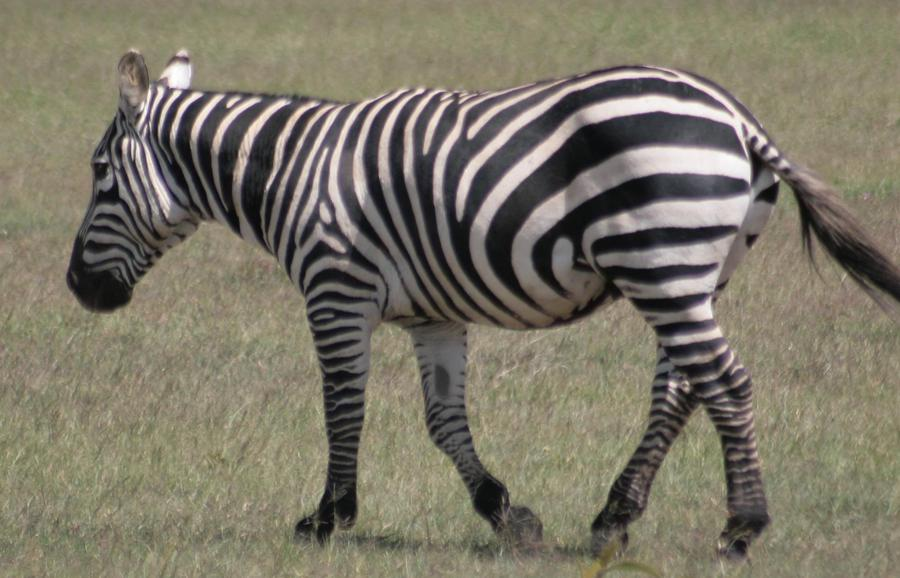zebra_plains: (252, 74, 747, 340)
